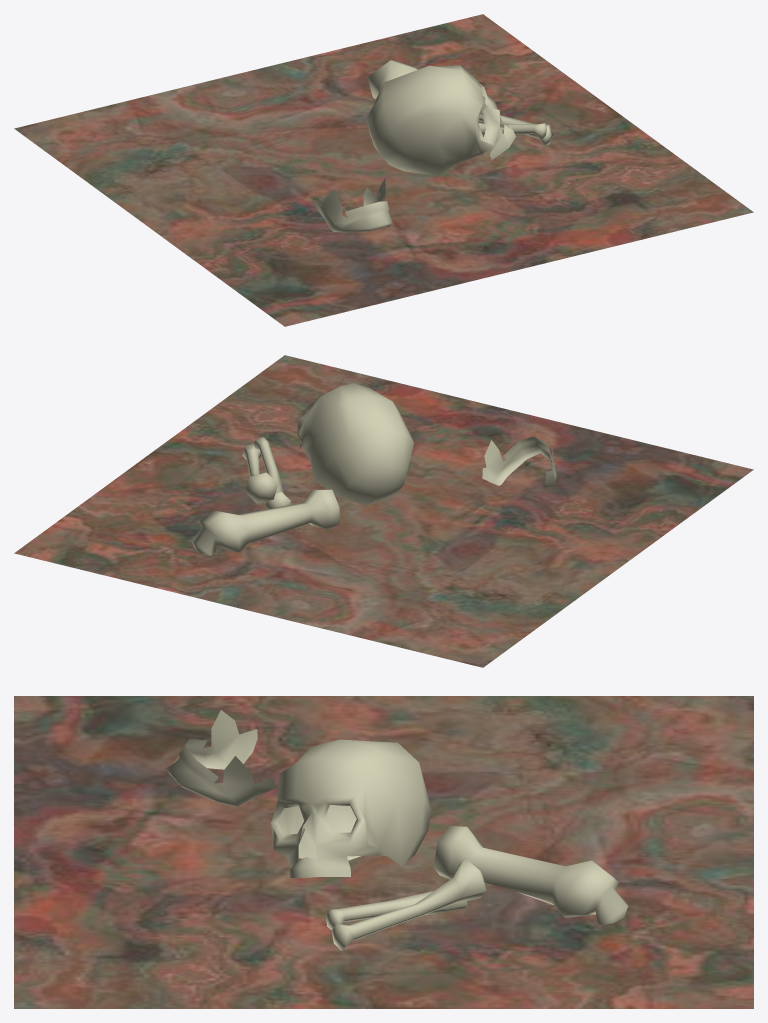
Rendered from cave_floor_decor_006.glb.
The picture shows the model from 3 angles, top to bottom: view 1: azimuth 30°, elevation 25°; view 2: azimuth 150°, elevation 25°; view 3: azimuth 270°, elevation 25°; orthographic projection. The views are drawn at different scales.
Visible parts, largest first — view 1: cave_floor_decor.006-col; view 2: cave_floor_decor.006-col; view 3: cave_floor_decor.006-col.
Boxes of the visible parts, x1,y1,x2,y2 form: cave_floor_decor.006-col: [14, 14, 753, 326]; cave_floor_decor.006-col: [14, 355, 753, 667]; cave_floor_decor.006-col: [14, 696, 753, 1008].
Size of the model in its own units: 2 by 0.4495 by 2.
Materials: 2 (1 with a texture image).
